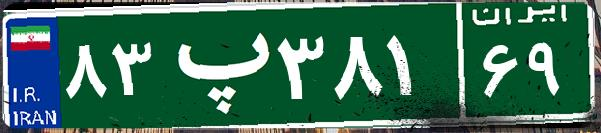1: (385, 28, 445, 110)
3: (273, 28, 330, 110), (110, 28, 158, 105)
6: (475, 38, 525, 113)
8: (330, 28, 385, 110), (57, 26, 110, 107)
9: (525, 38, 570, 115)
پ: (158, 15, 273, 115)
